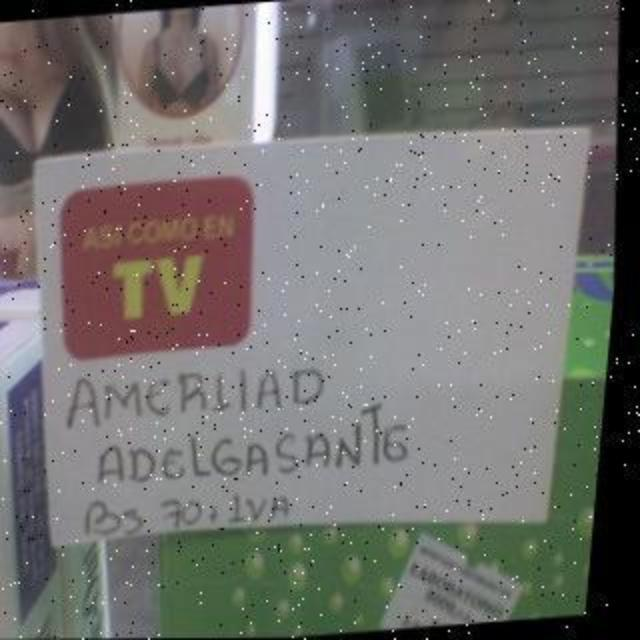book: (66, 96, 626, 520)
